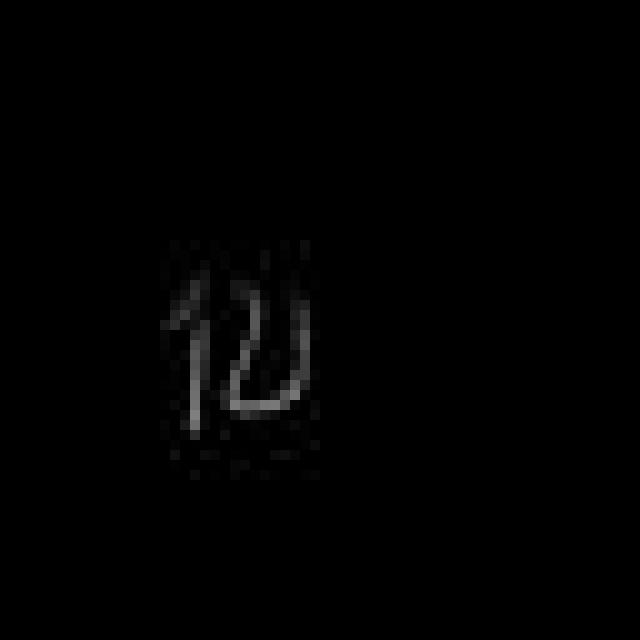100000 -a hundred thousand-: (157, 251, 319, 446)
